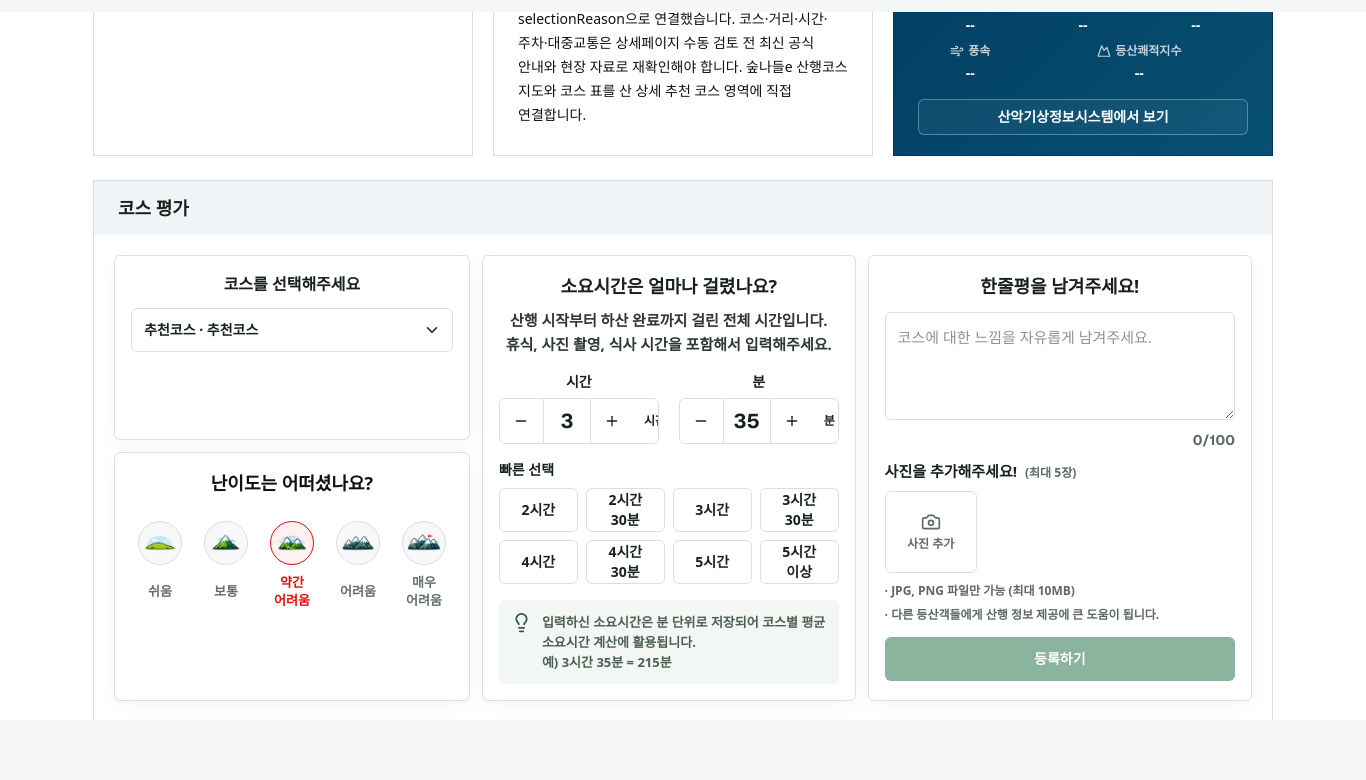
it: MountainDetailPage course feedback › uses a separate review list when another course is selected
(page scrolled)
Type "추천 코스는 접근이 편했어요." into the text box with placeholder "코스에 대한 느낌을 자유롭게 남겨주세요." at (1060, 366), box [885,312,1235,420]
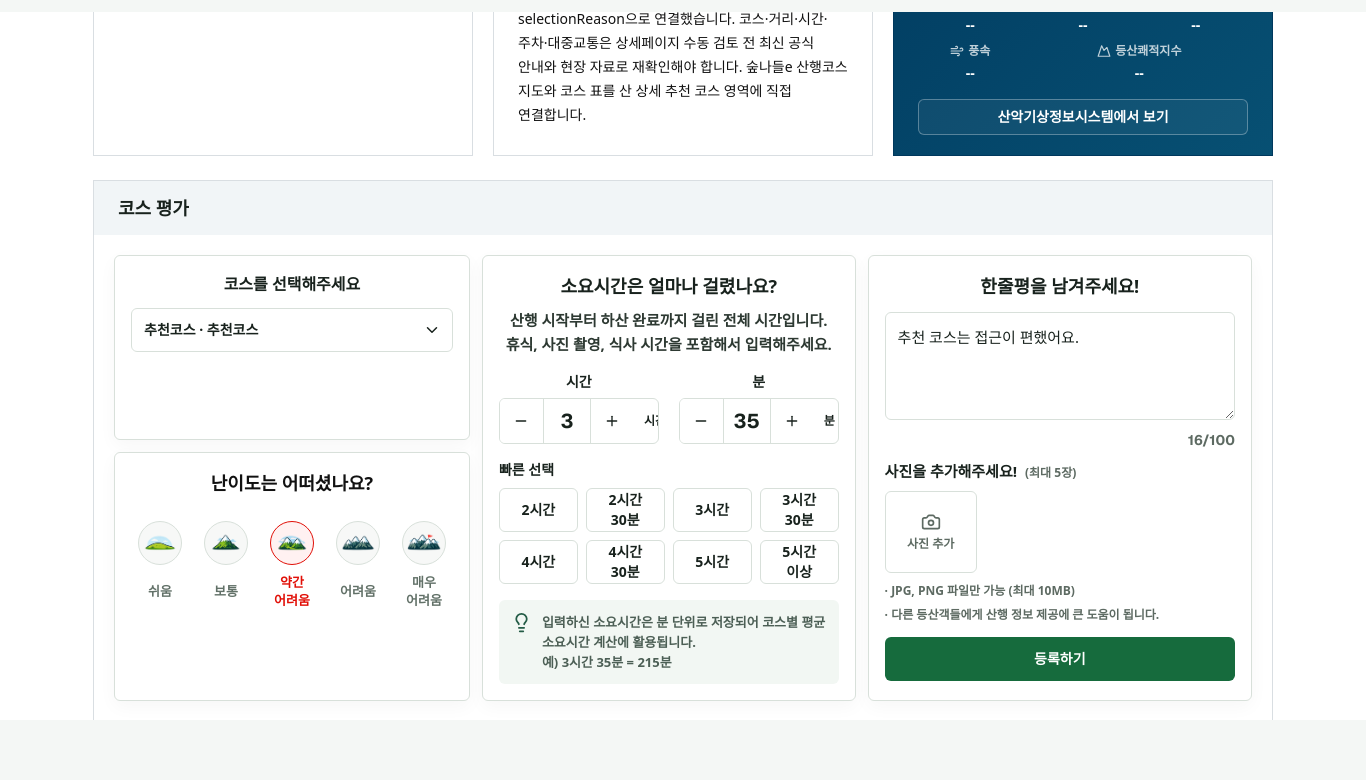
Click the button "등록하기" at (1060, 659), box [885,637,1235,681]
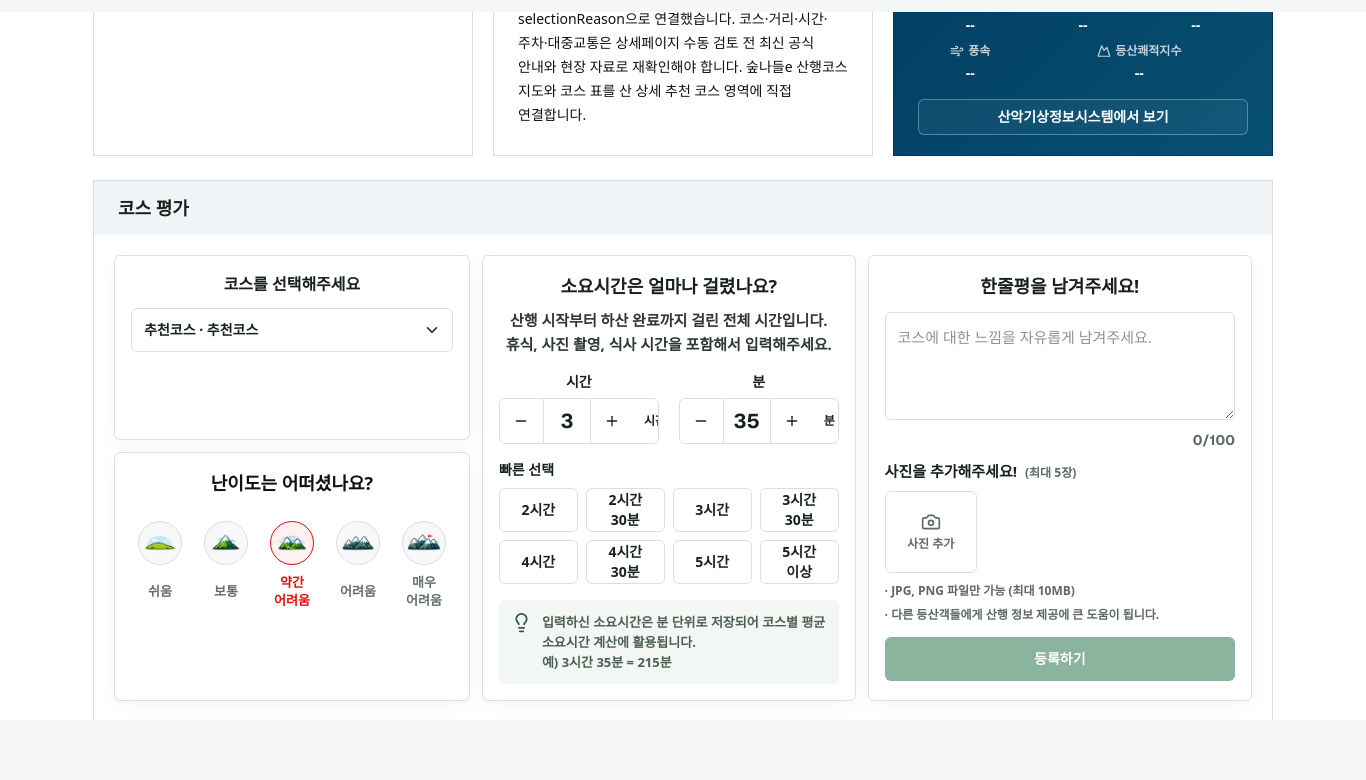
Select "기타코스1 · 기타코스1" in the dropdown labelled "코스를 선택해주세요" at (292, 330), box [131,308,453,352]
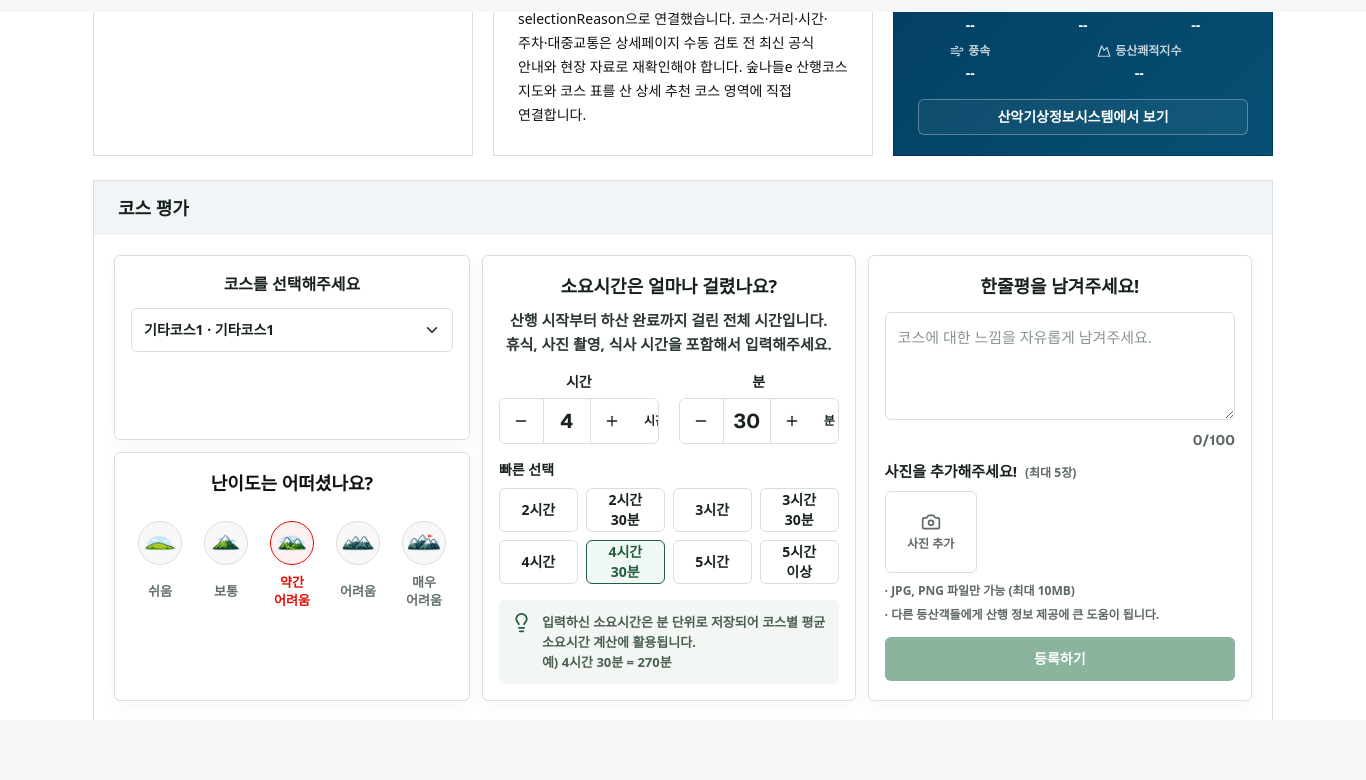
expect the text "추천 코스는 접근이 편했어요." is not shown: met
Type "다른 코스는 조용해서 좋았어요." into the text box with placeholder "코스에 대한 느낌을 자유롭게 남겨주세요." at (1060, 366), box [885,312,1235,420]
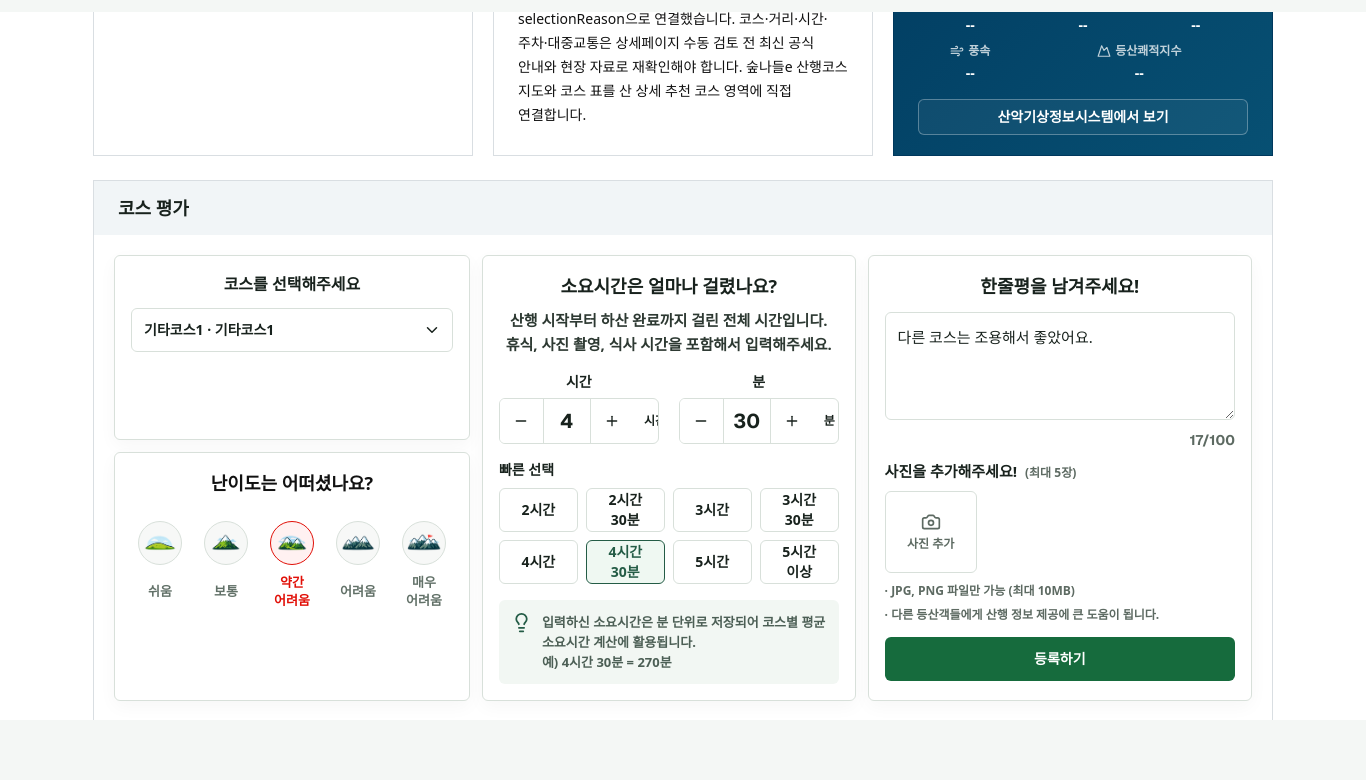
Click the button "등록하기" at (1060, 659), box [885,637,1235,681]
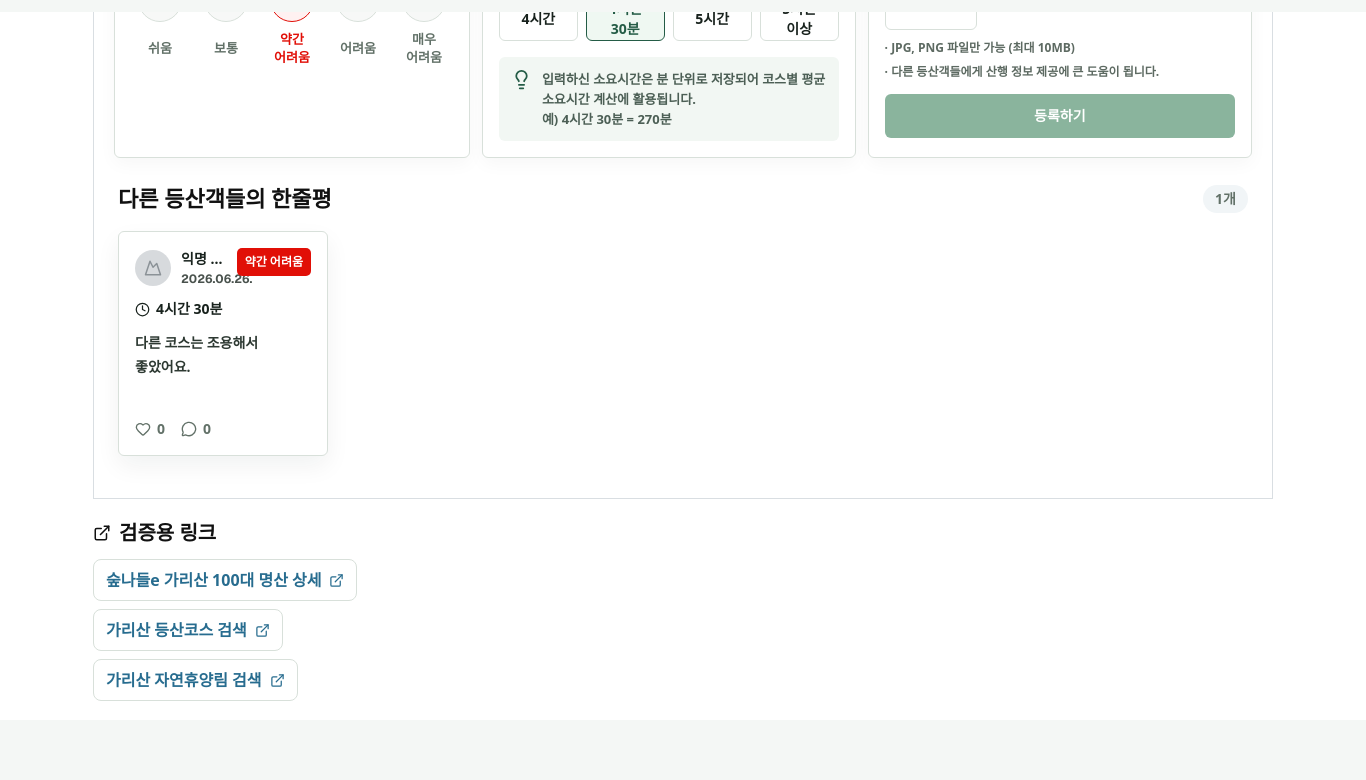
expect the text "다른 코스는 조용해서 좋았어요." is shown: met, box [135,333,258,376]
